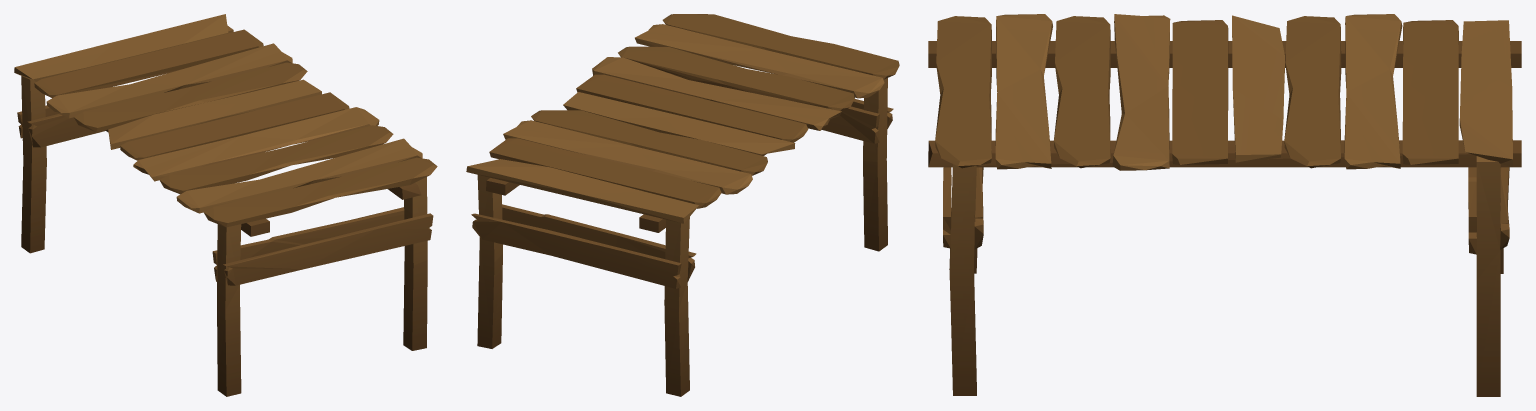
The model's file is ModularWood_01.fbx.
3 views of the same model, side by side, from view 1: azimuth 30°, elevation 25°; view 2: azimuth 150°, elevation 25°; view 3: azimuth 270°, elevation 25° (orthographic). The views are drawn at different scales.
Parts seen in each view (by area): view 1: ModularWood_01; view 2: ModularWood_01; view 3: ModularWood_01.
Part boxes in pixels (<box>): ModularWood_01: <box>14,14,437,396</box>; ModularWood_01: <box>466,14,899,396</box>; ModularWood_01: <box>928,14,1521,396</box>.
Bounding box in the file's own units: 180 × 132 × 294.
